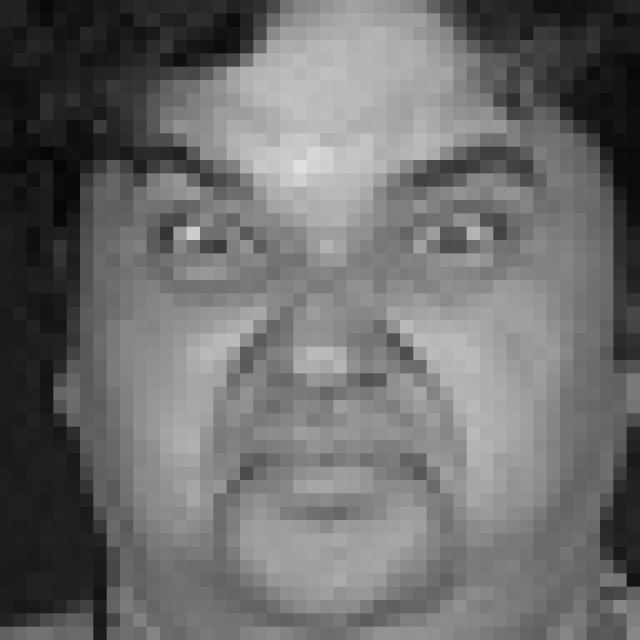disgust: (108, 95, 550, 607)
